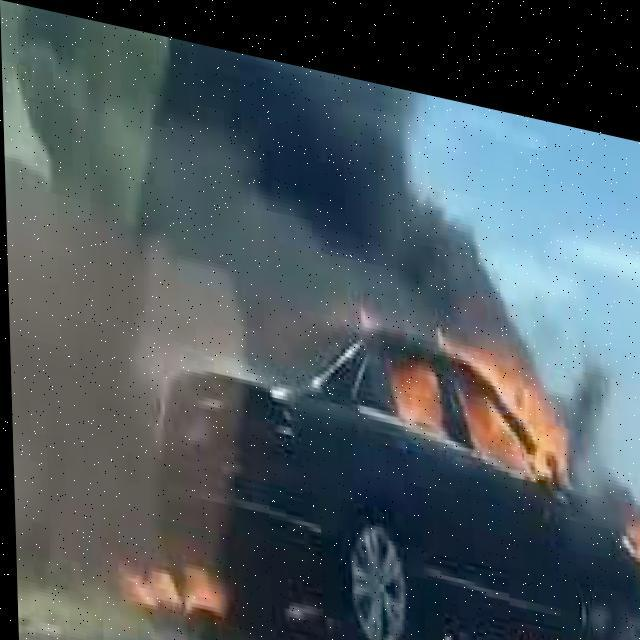Fire: (378, 256, 568, 472), (105, 508, 244, 635), (519, 584, 617, 639), (612, 453, 639, 547)
